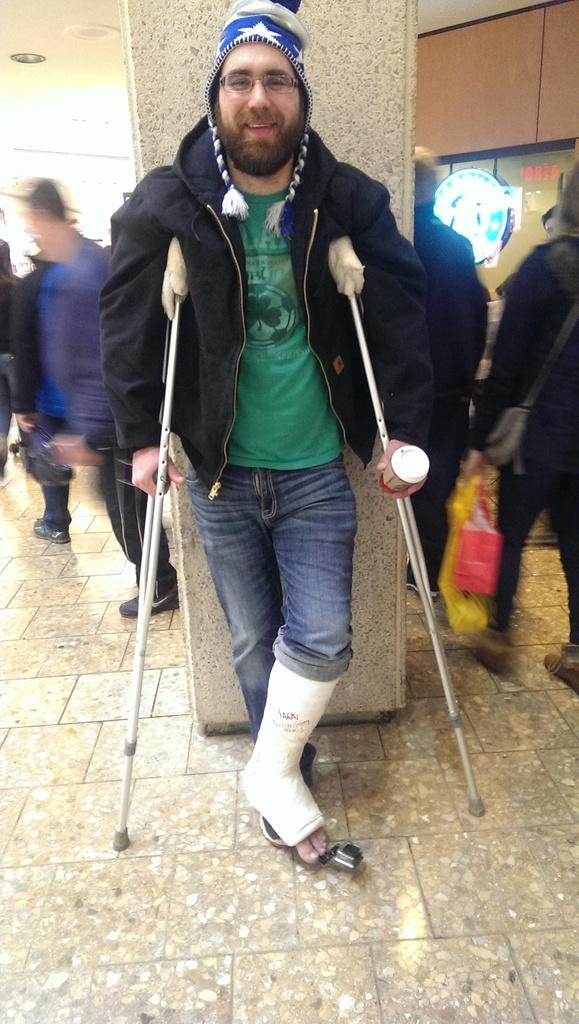crutches: (86, 0, 491, 884)
